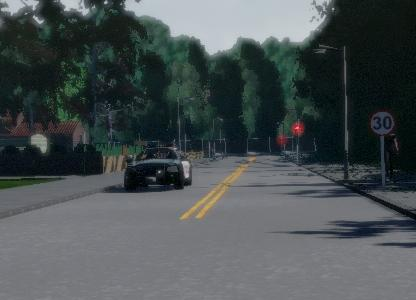Speed_30: (367, 106, 396, 140)
